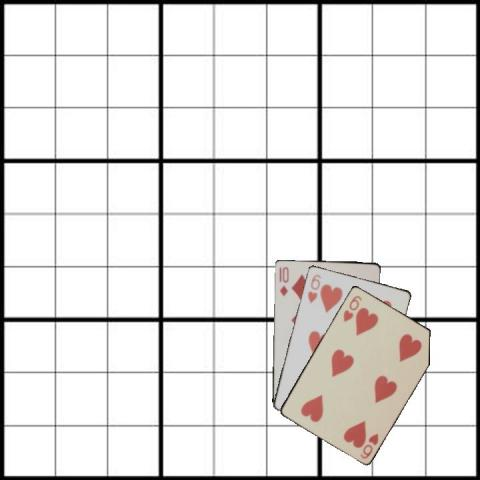10d: (277, 263, 290, 297)
6h: (340, 292, 363, 323), (357, 430, 380, 460), (304, 271, 322, 305)
